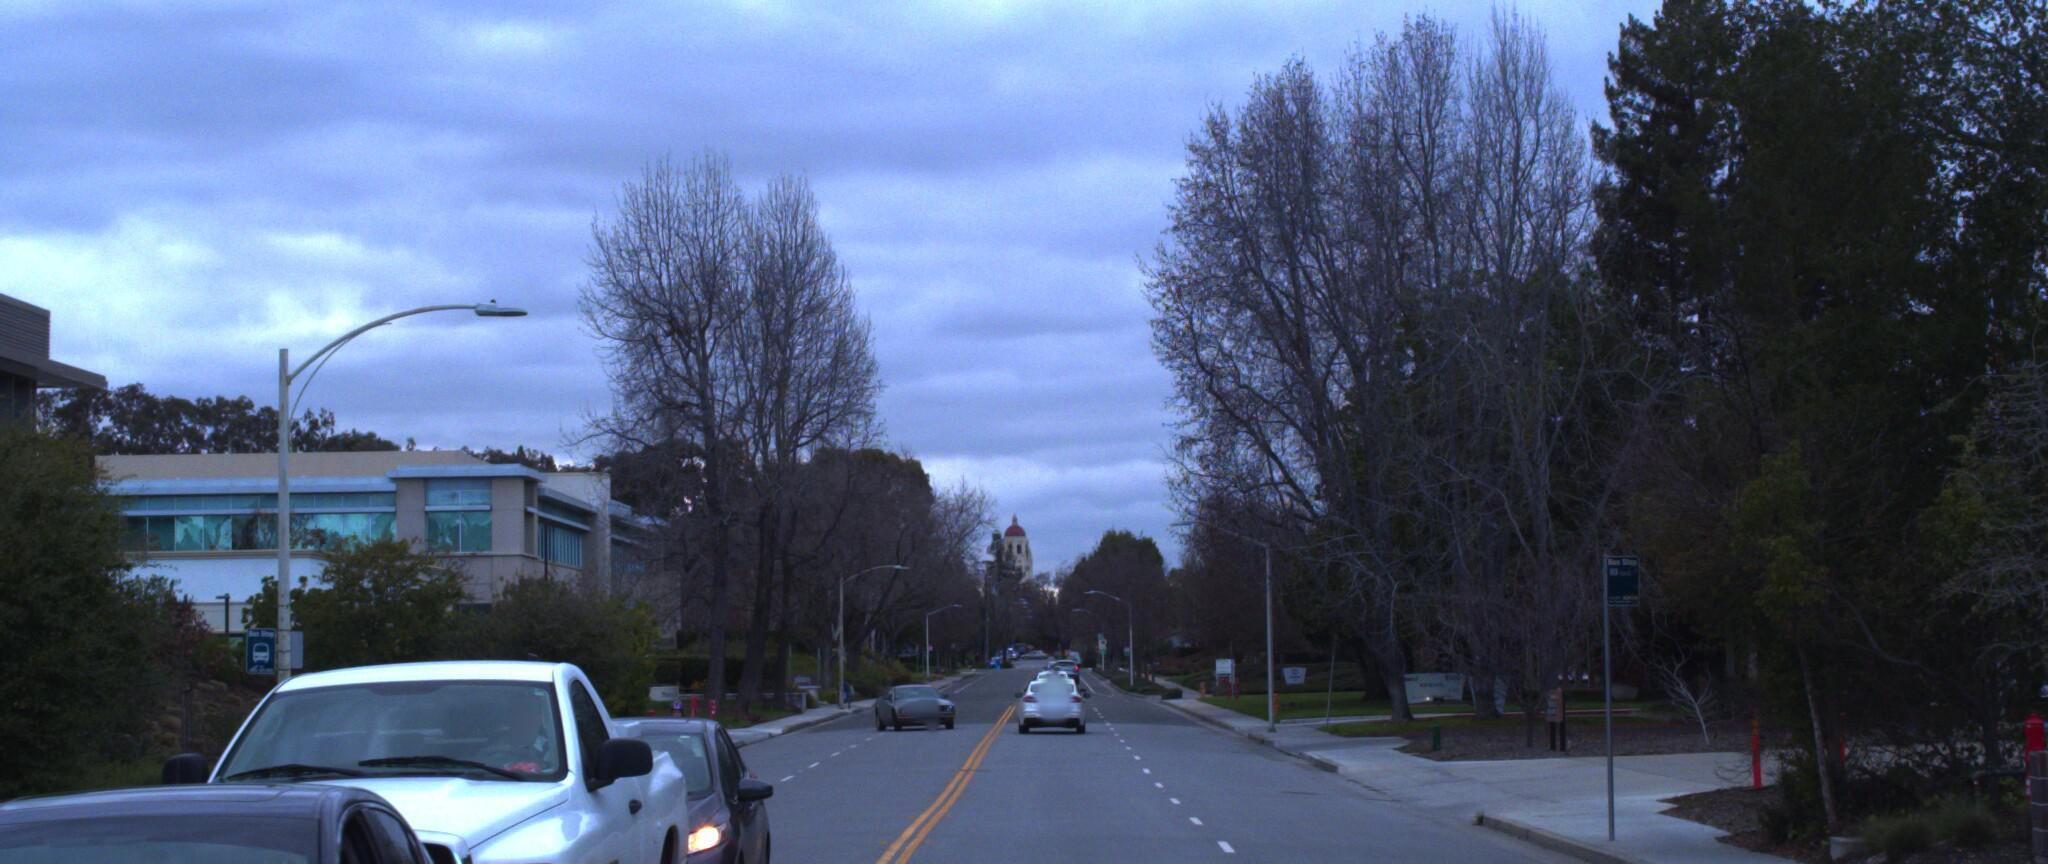car: (50, 647, 686, 864), (0, 750, 526, 864), (455, 705, 756, 864), (1010, 670, 1083, 720)
